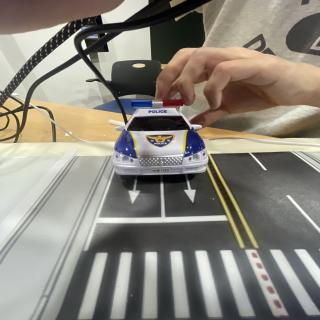Police_car: (112, 99, 208, 175)
